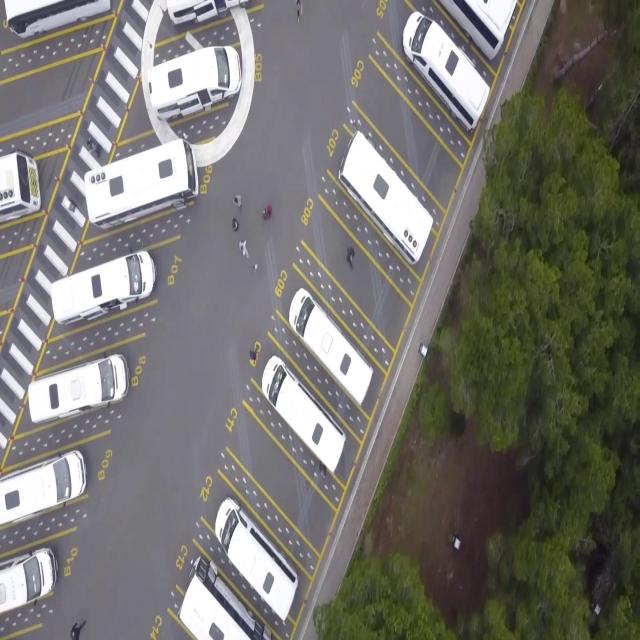people: (69, 620, 86, 640), (88, 136, 101, 156), (294, 1, 304, 23), (239, 240, 249, 260), (346, 246, 355, 268), (250, 341, 258, 364), (233, 194, 242, 208), (262, 204, 268, 221), (232, 218, 239, 232), (252, 262, 258, 272)
